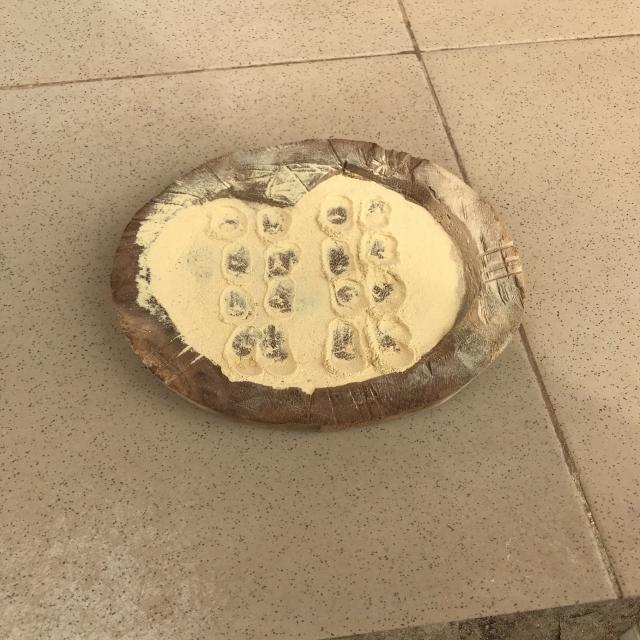double: (321, 318, 418, 372), (222, 324, 304, 377), (215, 280, 304, 323), (326, 273, 409, 318), (310, 193, 396, 236), (208, 202, 293, 242), (318, 236, 401, 276), (215, 243, 301, 280)
